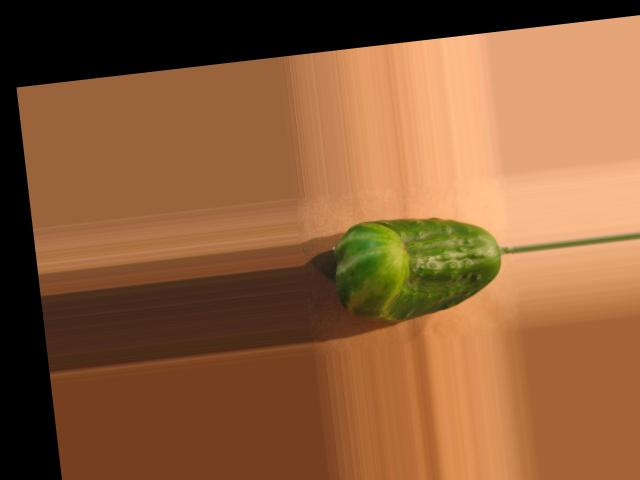cucumber: (329, 205, 507, 326)
